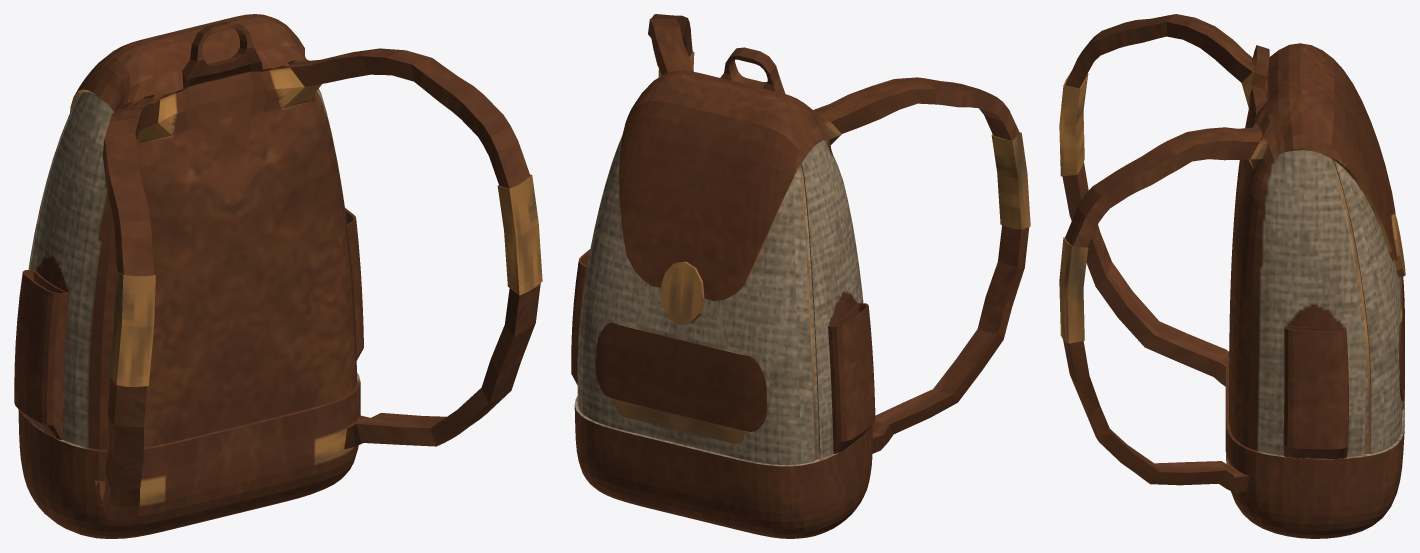
The model's file is Backpack.fbx.
3 renders of one model, left to right at view 1: azimuth 30°, elevation 25°; view 2: azimuth 150°, elevation 25°; view 3: azimuth 270°, elevation 25°, orthographic. The views are drawn at different scales.
Parts seen in each view (by area): view 1: Cube; view 2: Cube; view 3: Cube.
Part boxes in pixels (<box>): Cube: <box>14,14,542,538</box>; Cube: <box>571,14,1030,538</box>; Cube: <box>1059,14,1405,538</box>.
Size of the model in its own units: 50 by 56.38 by 40.
Materials: 1 (1 with a texture image).
